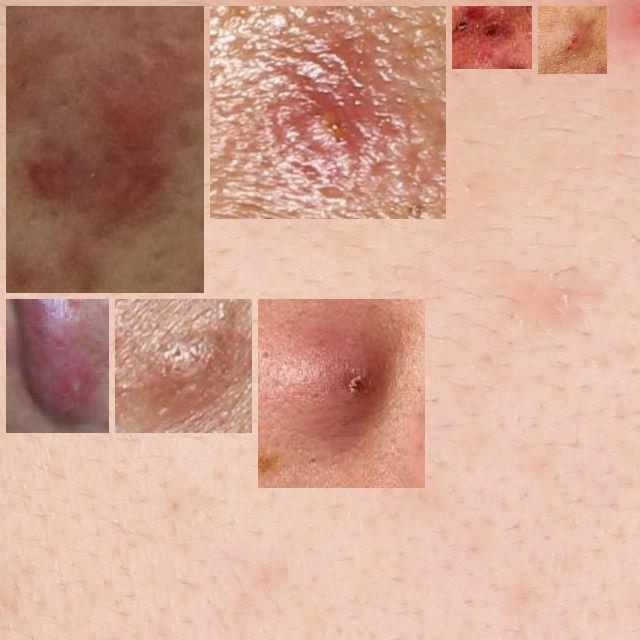nodule: (14, 14, 196, 285), (218, 14, 438, 211), (266, 307, 417, 480), (123, 307, 244, 425), (14, 307, 101, 425), (460, 14, 524, 61), (546, 14, 599, 66)
